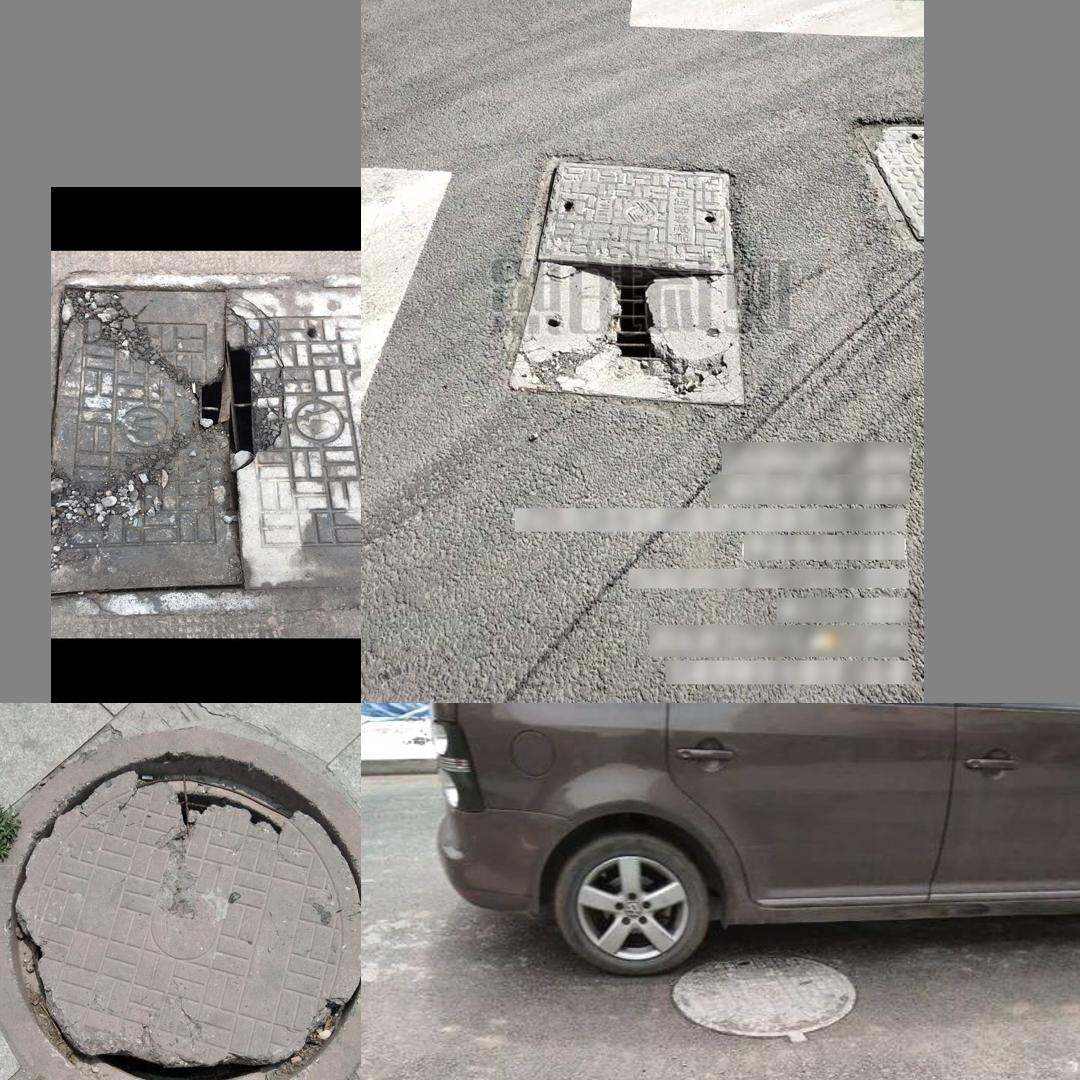broke: (0, 727, 361, 1080), (51, 270, 357, 622), (504, 161, 746, 407)
